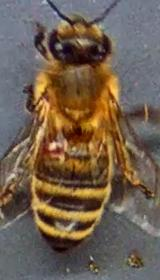varroa_mite: (36, 135, 70, 159)
